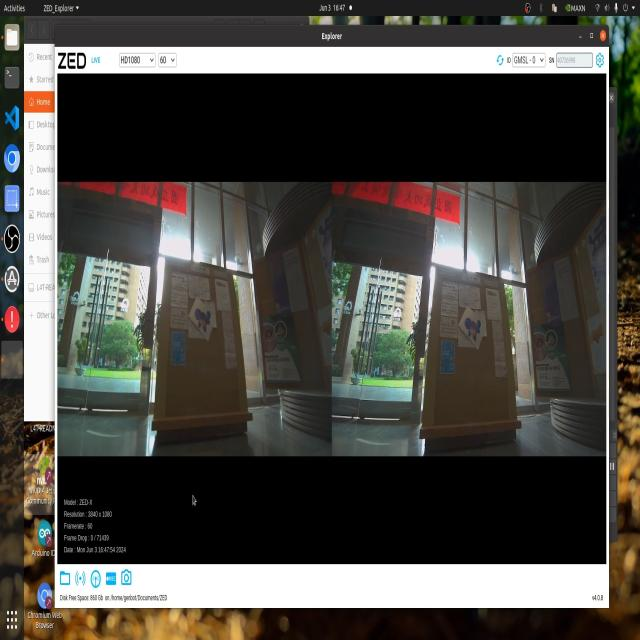blue: (461, 306, 490, 351), (198, 302, 221, 339)
